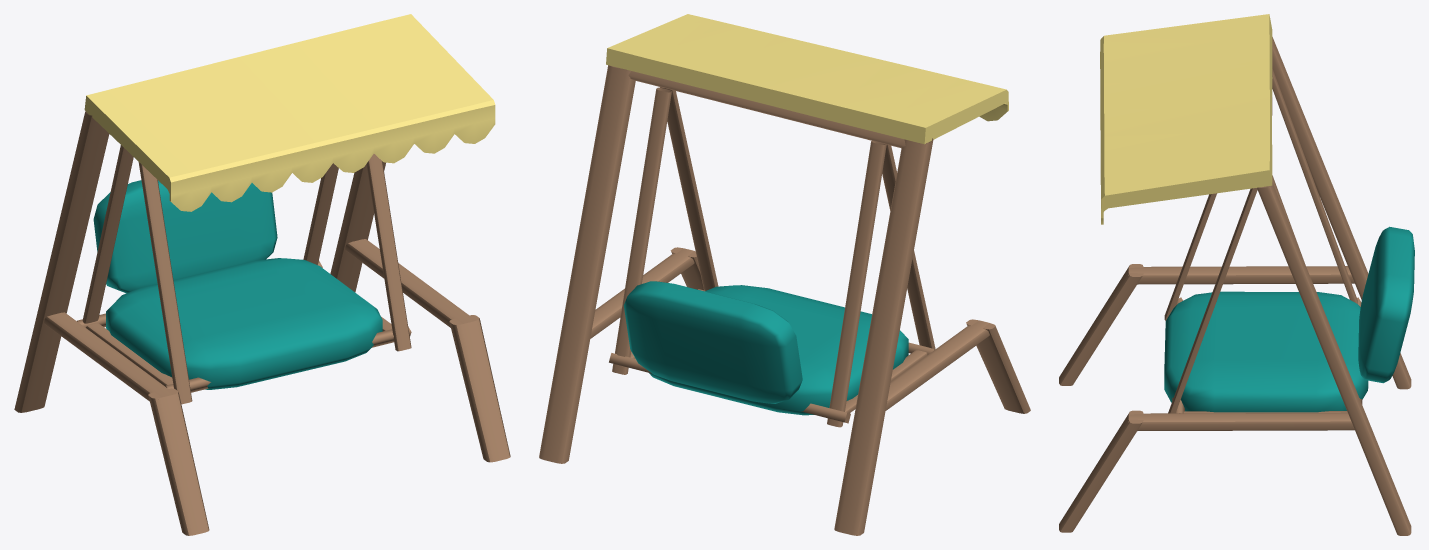
Rendered from SM_Swing1.fbx.
3 renders of one model, left to right at view 1: azimuth 30°, elevation 25°; view 2: azimuth 150°, elevation 25°; view 3: azimuth 270°, elevation 25°, orthographic.
Parts seen in each view (by area): view 1: SM_Swing1; view 2: SM_Swing1; view 3: SM_Swing1.
Part boxes in pixels (bbox=[...]): SM_Swing1: bbox=[14, 14, 510, 535]; SM_Swing1: bbox=[539, 14, 1030, 535]; SM_Swing1: bbox=[1059, 14, 1414, 535].
Bounding box in the file's own units: 217 × 231 × 204.
